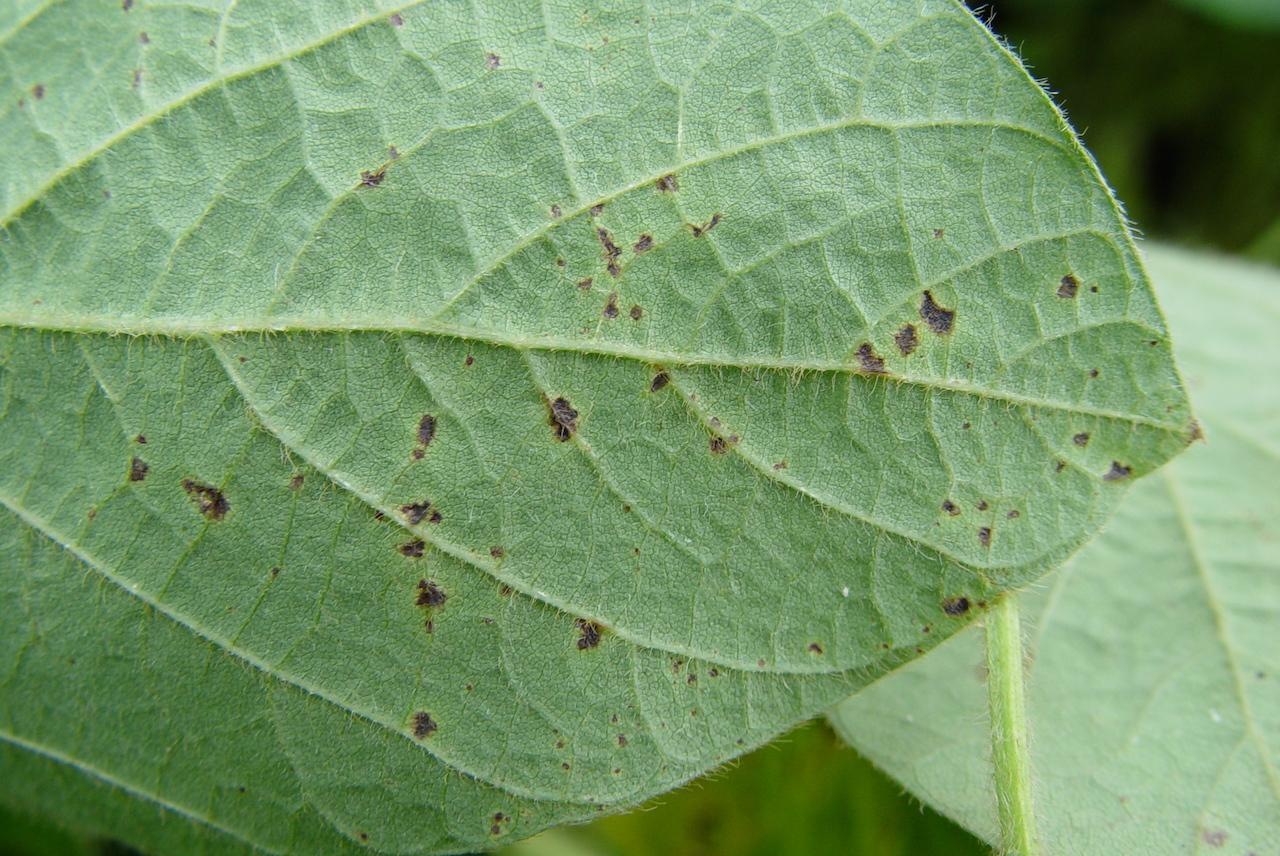Soyabean leaf: (6, 1, 1209, 852)
